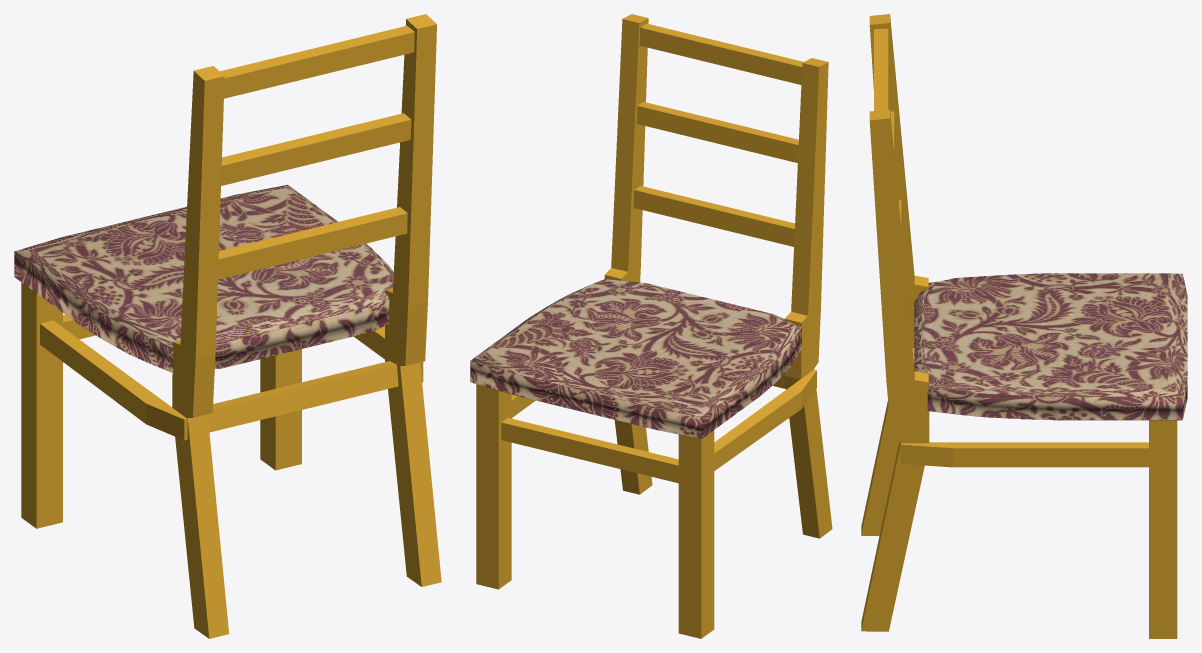
The model's file is Stul1.glb.
3 views of the same model, side by side, from view 1: azimuth 30°, elevation 25°; view 2: azimuth 150°, elevation 25°; view 3: azimuth 270°, elevation 25° (orthographic). The views are drawn at different scales.
Parts seen in each view (by area): view 1: sidushka, nozkaBigL, nozkaBigR, nozkaMaiL, spinkaV, spinkaC, spinkaN, cargaB, cargaL, nozkaMaiR; view 2: sidushka, nozkaBigL, nozkaBigR, nozkaMaiL, nozkaMaiR, cargaFront, spinkaV, spinkaC, spinkaN, cargaL; view 3: sidushka, nozkaBigR, nozkaMaiR, cargaR, nozkaBigL, spinkaV.
Part boxes in pixels (<box>): sidushka: <box>14,184,393,372</box>; nozkaBigL: <box>172,66,229,638</box>; nozkaBigR: <box>384,14,441,586</box>; nozkaMaiL: <box>21,282,62,528</box>; spinkaV: <box>220,25,414,98</box>; spinkaC: <box>221,113,411,185</box>; spinkaN: <box>218,207,407,279</box>; cargaB: <box>207,361,398,432</box>; cargaL: <box>40,320,187,440</box>; nozkaMaiR: <box>260,349,301,470</box>; sidushka: <box>470,279,801,438</box>; nozkaBigL: <box>784,58,832,538</box>; nozkaBigR: <box>604,14,652,494</box>; nozkaMaiL: <box>678,430,714,638</box>; nozkaMaiR: <box>476,384,511,589</box>; cargaFront: <box>501,418,678,483</box>; spinkaV: <box>639,23,803,84</box>; spinkaC: <box>636,102,798,162</box>; spinkaN: <box>633,186,794,246</box>; cargaL: <box>714,369,816,470</box>; sidushka: <box>914,273,1187,420</box>; nozkaBigR: <box>861,109,929,631</box>; nozkaMaiR: <box>1149,420,1177,638</box>; cargaR: <box>901,442,1148,467</box>; nozkaBigL: <box>861,14,928,535</box>; spinkaV: <box>874,28,889,110</box>.
Size of what is drawn, in the model's own units: 0.4119 by 0.802 by 0.4624.
2 materials, 1 textured.
